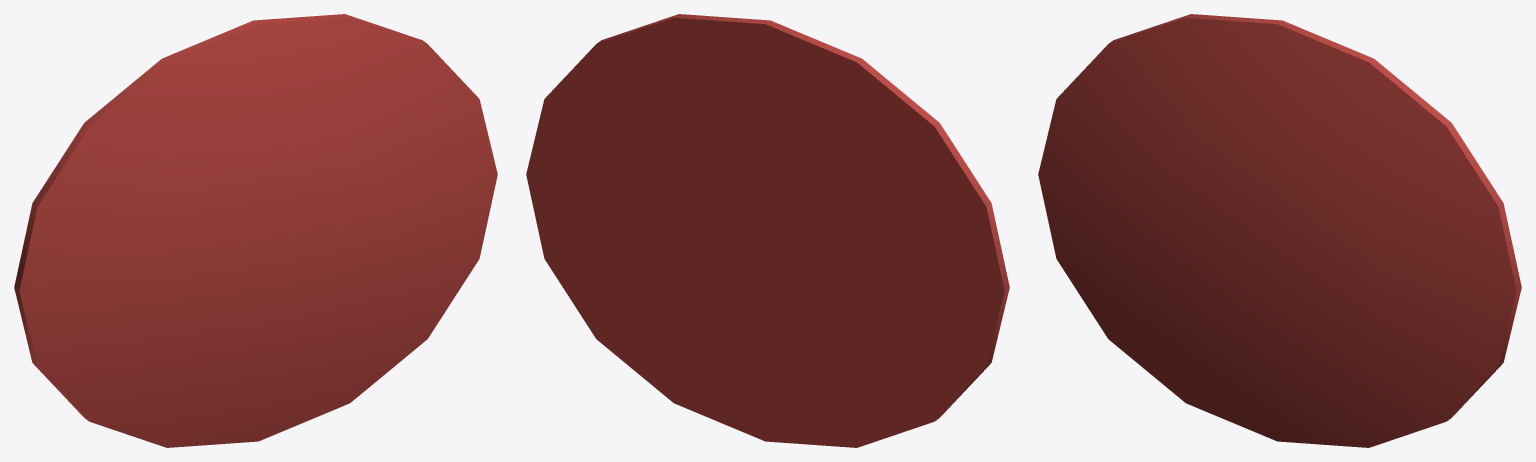
Rendered from chrome_lod2.glb.
3 renders of one model, left to right at view 1: azimuth 30°, elevation 25°; view 2: azimuth 150°, elevation 25°; view 3: azimuth 330°, elevation 25°, orthographic.
Visible parts, largest first — view 1: chrome_lod2; view 2: chrome_lod2; view 3: chrome_lod2.
Part boxes in pixels (left/top/right/bottom): chrome_lod2: left=14, top=14, right=497, bottom=447; chrome_lod2: left=526, top=14, right=1009, bottom=447; chrome_lod2: left=1038, top=14, right=1521, bottom=447.
Bounding box in the file's own units: 0.216 × 0.18 × 0.016.
